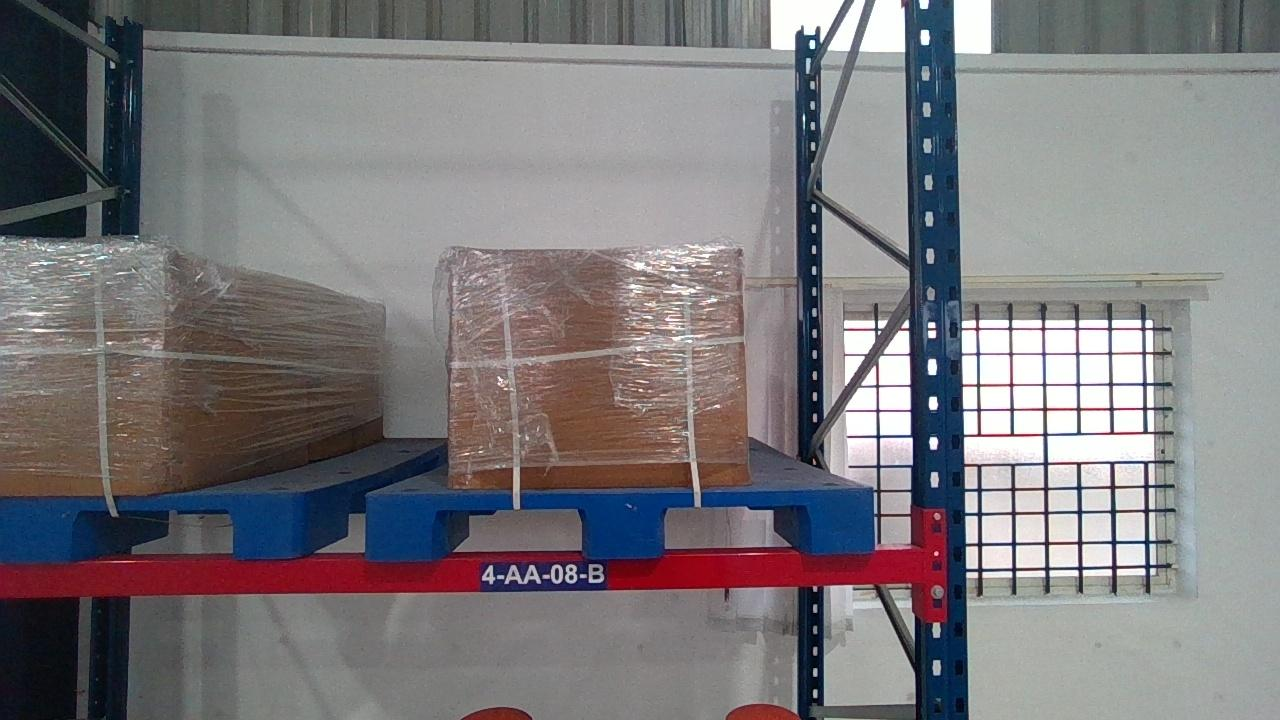h_rack: (0, 551, 926, 593)
small_pallet: (364, 487, 878, 556), (0, 494, 303, 554)
